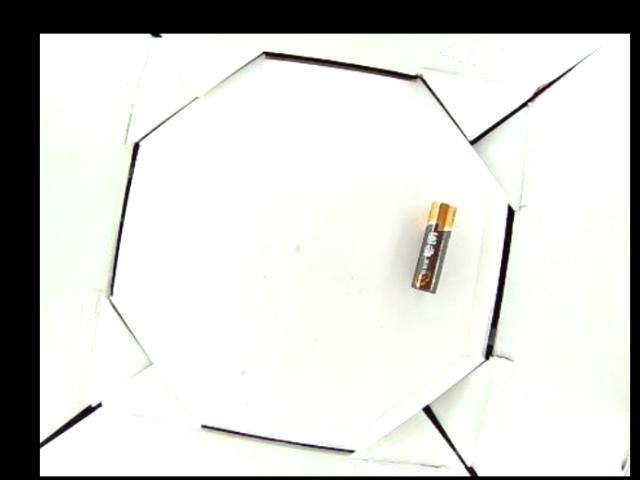Battery: (409, 202, 458, 294)
